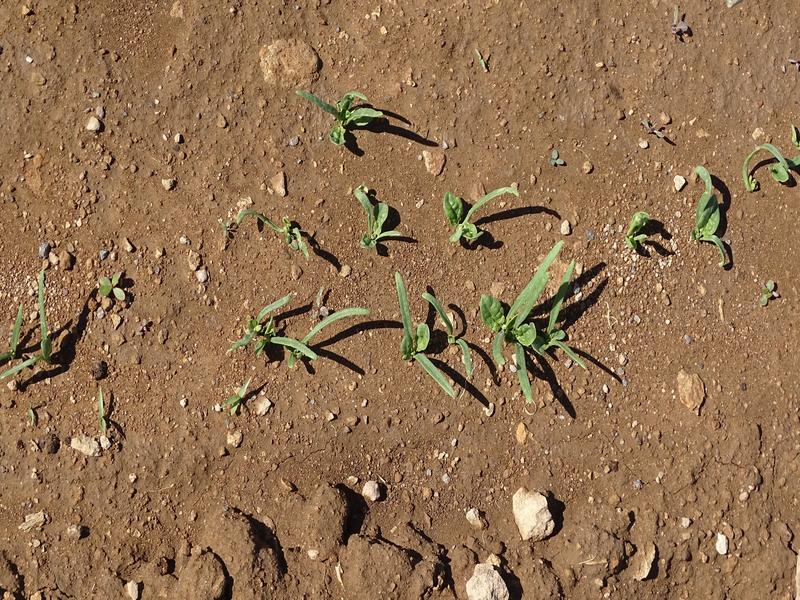Espinaca: (243, 201, 592, 406), (629, 137, 795, 281), (292, 82, 392, 150), (4, 272, 59, 375), (95, 389, 116, 439)
